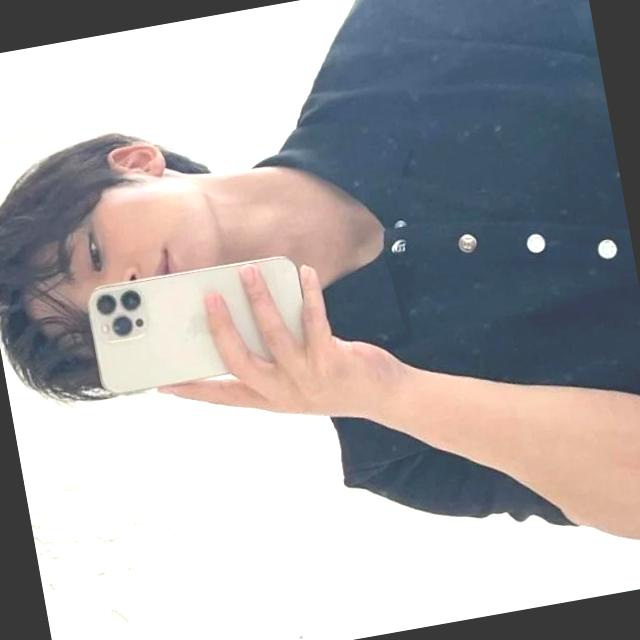lens_back: (110, 312, 135, 337), (94, 292, 119, 316), (118, 286, 142, 311)
phone: (82, 248, 318, 397)
